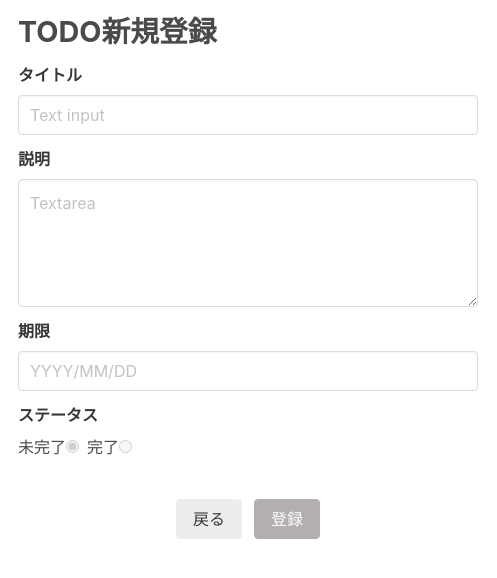
Test: 登録ボタンを押下した時 › タイトル項目の必須チェックのテスト
The width and height of the screenshot is (497, 578).
Click the button "登録" at [287, 519], box [254, 499, 320, 539]
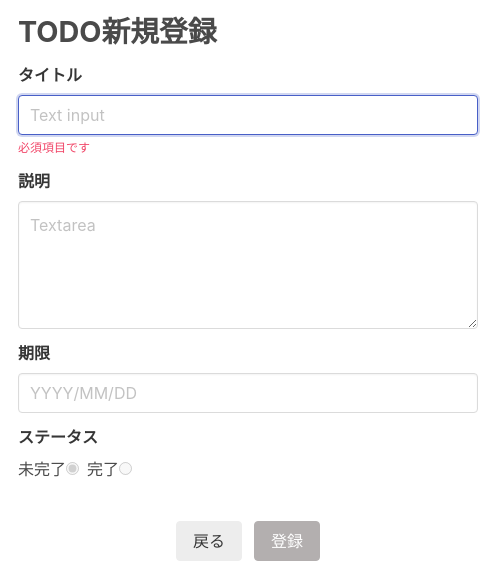
Expected: the text "必須項目です" is shown, [18, 140, 90, 155]
